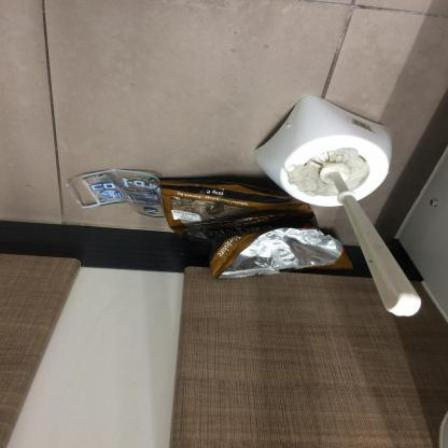Paper: (321, 149, 371, 192), (284, 163, 340, 197)
Plastic bag - wrapper: (161, 181, 355, 281), (66, 170, 166, 219)
